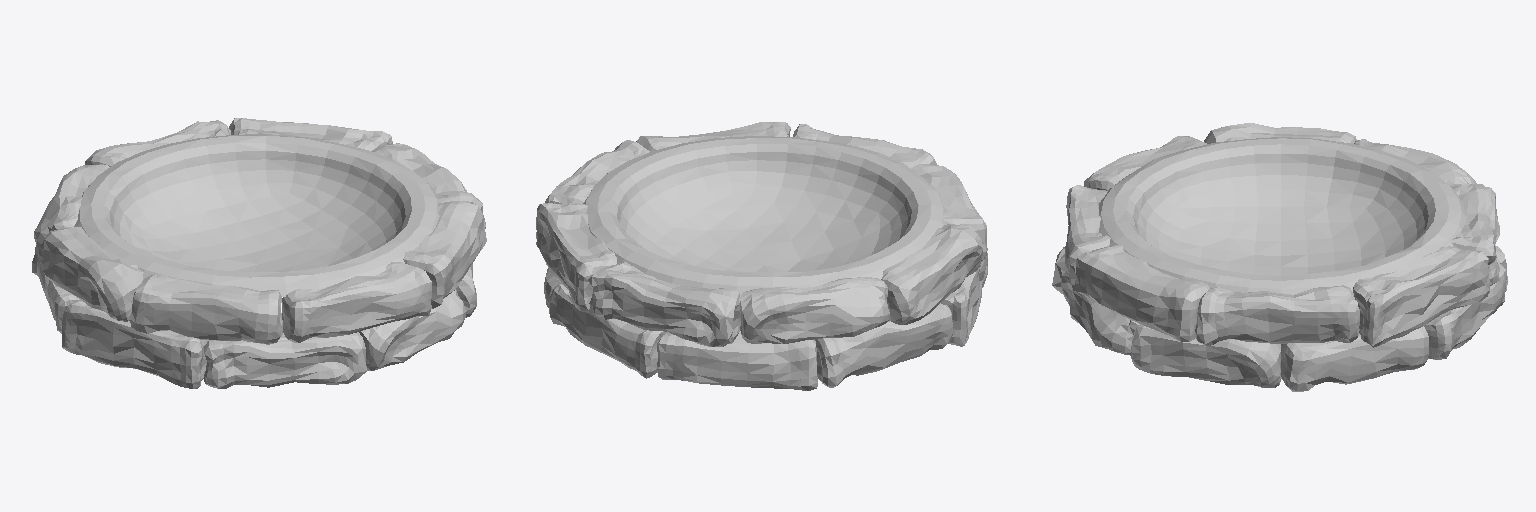
The model's file is firepit.obj.
3 views of the same model, side by side, from view 1: azimuth 30°, elevation 25°; view 2: azimuth 150°, elevation 25°; view 3: azimuth 270°, elevation 25° (orthographic).
Parts seen in each view (by area): view 1: trn_Firepit_Roundcube.032; view 2: trn_Firepit_Roundcube.032; view 3: trn_Firepit_Roundcube.032.
Boxes of the visible parts, x1,y1,x2,y2 form: trn_Firepit_Roundcube.032: [32, 118, 486, 388]; trn_Firepit_Roundcube.032: [536, 122, 987, 390]; trn_Firepit_Roundcube.032: [1052, 123, 1507, 391].
Bounding box in the file's own units: 1.92 × 0.4591 × 1.94.